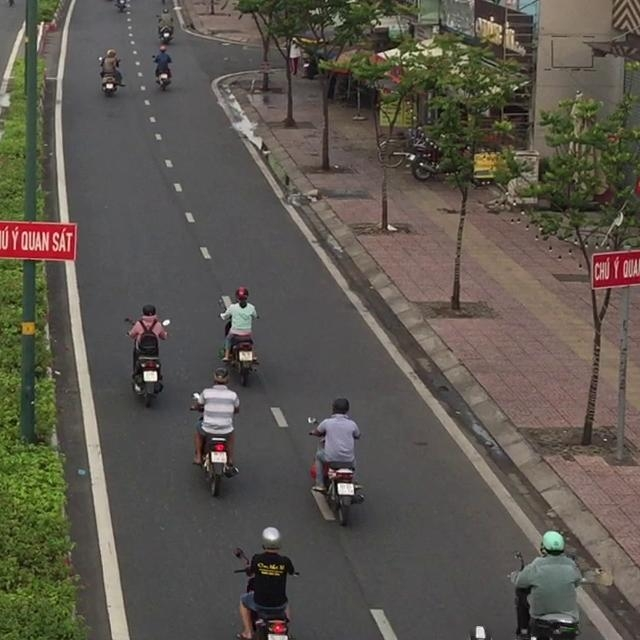motorcycle: (306, 416, 365, 526), (232, 547, 299, 639), (189, 392, 239, 497), (124, 317, 170, 407), (230, 333, 260, 388), (97, 56, 124, 96), (151, 54, 172, 91), (155, 13, 174, 44), (113, 0, 129, 12)
